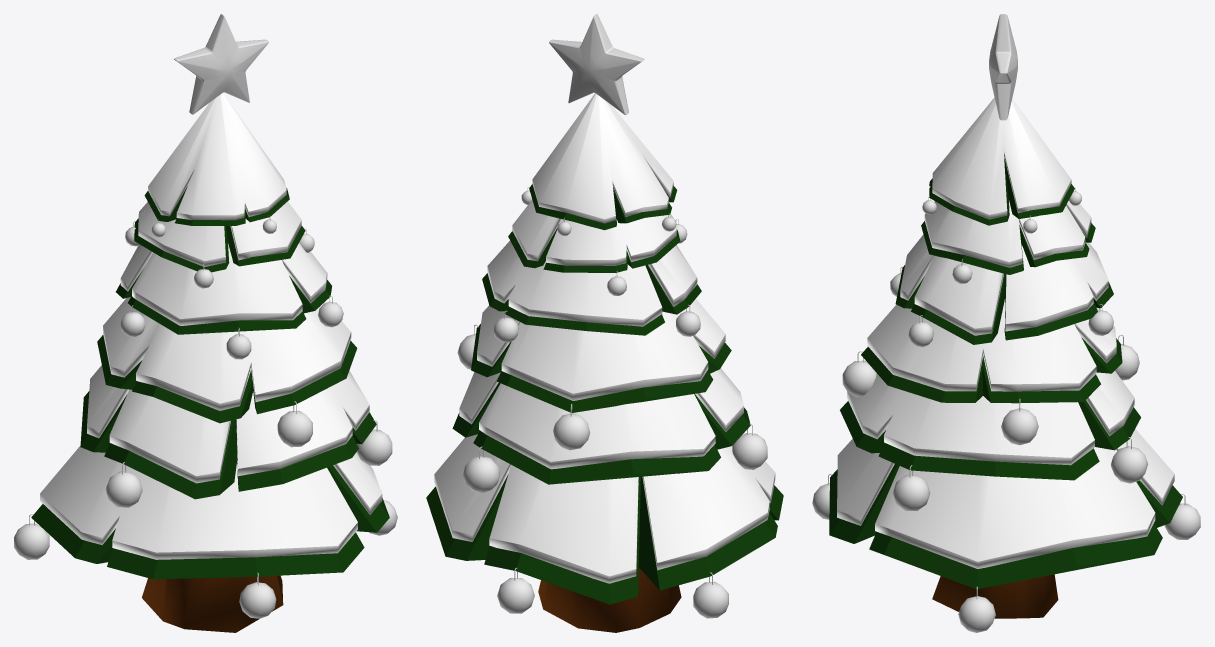
3 views of the same model, side by side, from view 1: azimuth 30°, elevation 25°; view 2: azimuth 150°, elevation 25°; view 3: azimuth 270°, elevation 25° (orthographic).
Parts seen in each view (by area): view 1: snow, Cone, Star, GeoSphere019, GeoSphere015, GeoSphere014, GeoSphere020, GeoSphere017, GeoSphere002, GeoSphere003, GeoSphere004; view 2: snow, Cone, Star, GeoSphere021, GeoSphere020, GeoSphere005, GeoSphere016, GeoSphere015, GeoSphere006, GeoSphere004; view 3: snow, Cone, Star, GeoSphere017, GeoSphere001, GeoSphere018, GeoSphere016, GeoSphere014, GeoSphere021, GeoSphere005.
Boxes of the visible parts, left/top/right/bottom form: snow: left=40, top=93, right=382, bottom=559; Cone: left=31, top=186, right=389, bottom=632; Star: left=174, top=14, right=268, bottom=114; GeoSphere019: left=239, top=572, right=276, bottom=618; GeoSphere015: left=105, top=462, right=142, bottom=507; GeoSphere014: left=277, top=401, right=312, bottom=447; GeoSphere020: left=14, top=514, right=49, bottom=559; GeoSphere017: left=356, top=420, right=392, bottom=465; GeoSphere002: left=318, top=295, right=343, bottom=327; GeoSphere003: left=226, top=327, right=251, bottom=359; GeoSphere004: left=120, top=305, right=145, bottom=336; snow: left=434, top=93, right=775, bottom=583; Cone: left=426, top=184, right=783, bottom=632; Star: left=549, top=14, right=644, bottom=114; GeoSphere021: left=497, top=567, right=534, bottom=613; GeoSphere020: left=693, top=572, right=728, bottom=618; GeoSphere005: left=553, top=404, right=590, bottom=450; GeoSphere016: left=463, top=446, right=500, bottom=492; GeoSphere015: left=732, top=423, right=767, bottom=469; GeoSphere006: left=493, top=310, right=518, bottom=342; GeoSphere004: left=676, top=305, right=700, bottom=336; snow: left=837, top=97, right=1174, bottom=568; Cone: left=829, top=156, right=1182, bottom=618; Star: left=989, top=14, right=1017, bottom=120; GeoSphere017: left=892, top=465, right=930, bottom=510; GeoSphere001: left=1001, top=399, right=1038, bottom=445; GeoSphere018: left=958, top=586, right=995, bottom=632; GeoSphere016: left=1111, top=437, right=1147, bottom=483; GeoSphere014: left=842, top=351, right=876, bottom=396; GeoSphere021: left=1164, top=494, right=1200, bottom=539; GeoSphere005: left=1115, top=334, right=1139, bottom=380.
Size of the model in its own units: 573 by 990 by 586.
